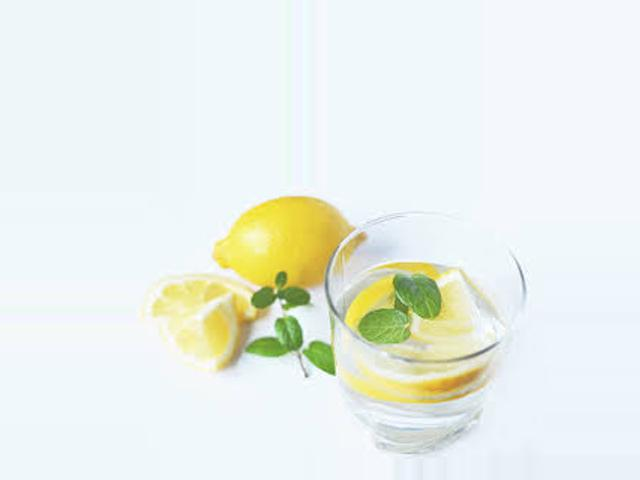lemon: (214, 190, 376, 303)
